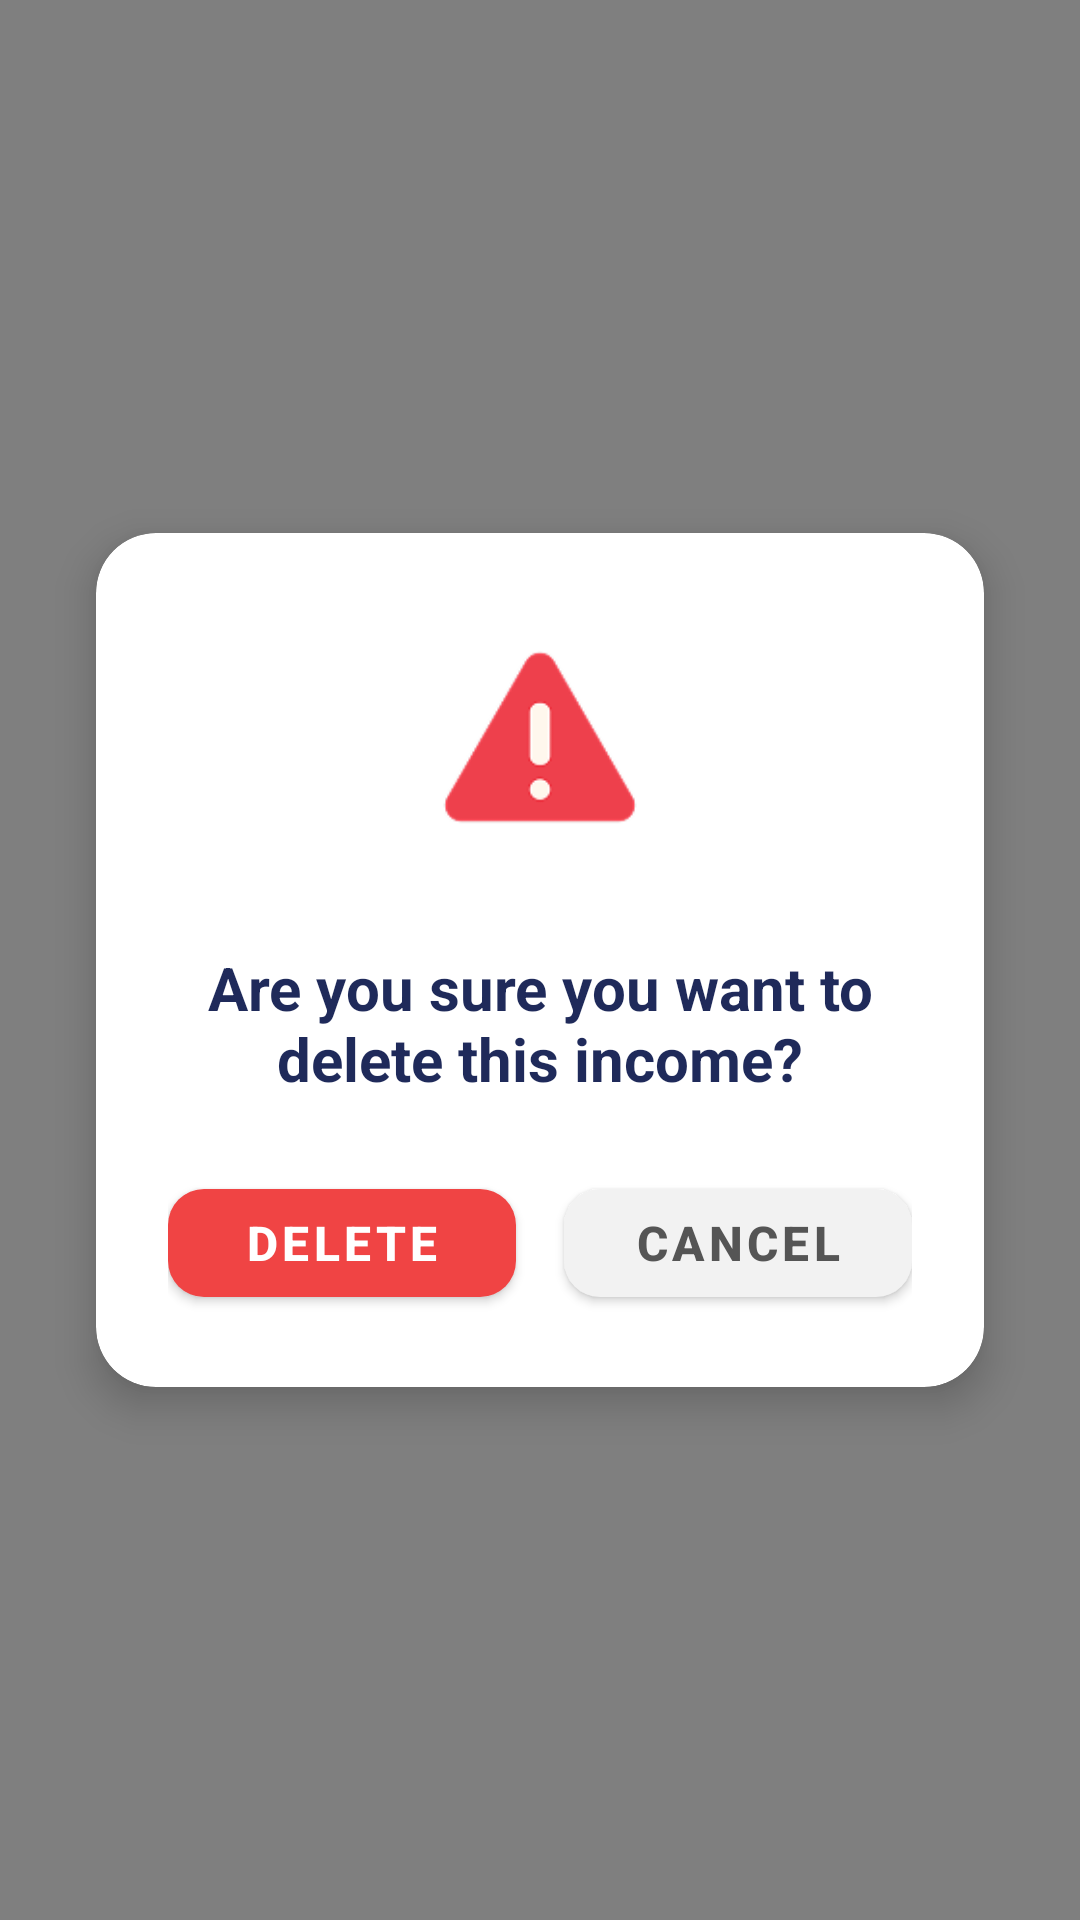

Screen size 1080x1920. Icon name, then its box in pixels as (x1, y1, x2, y2):
Delete Warning: (445, 652, 635, 822)
